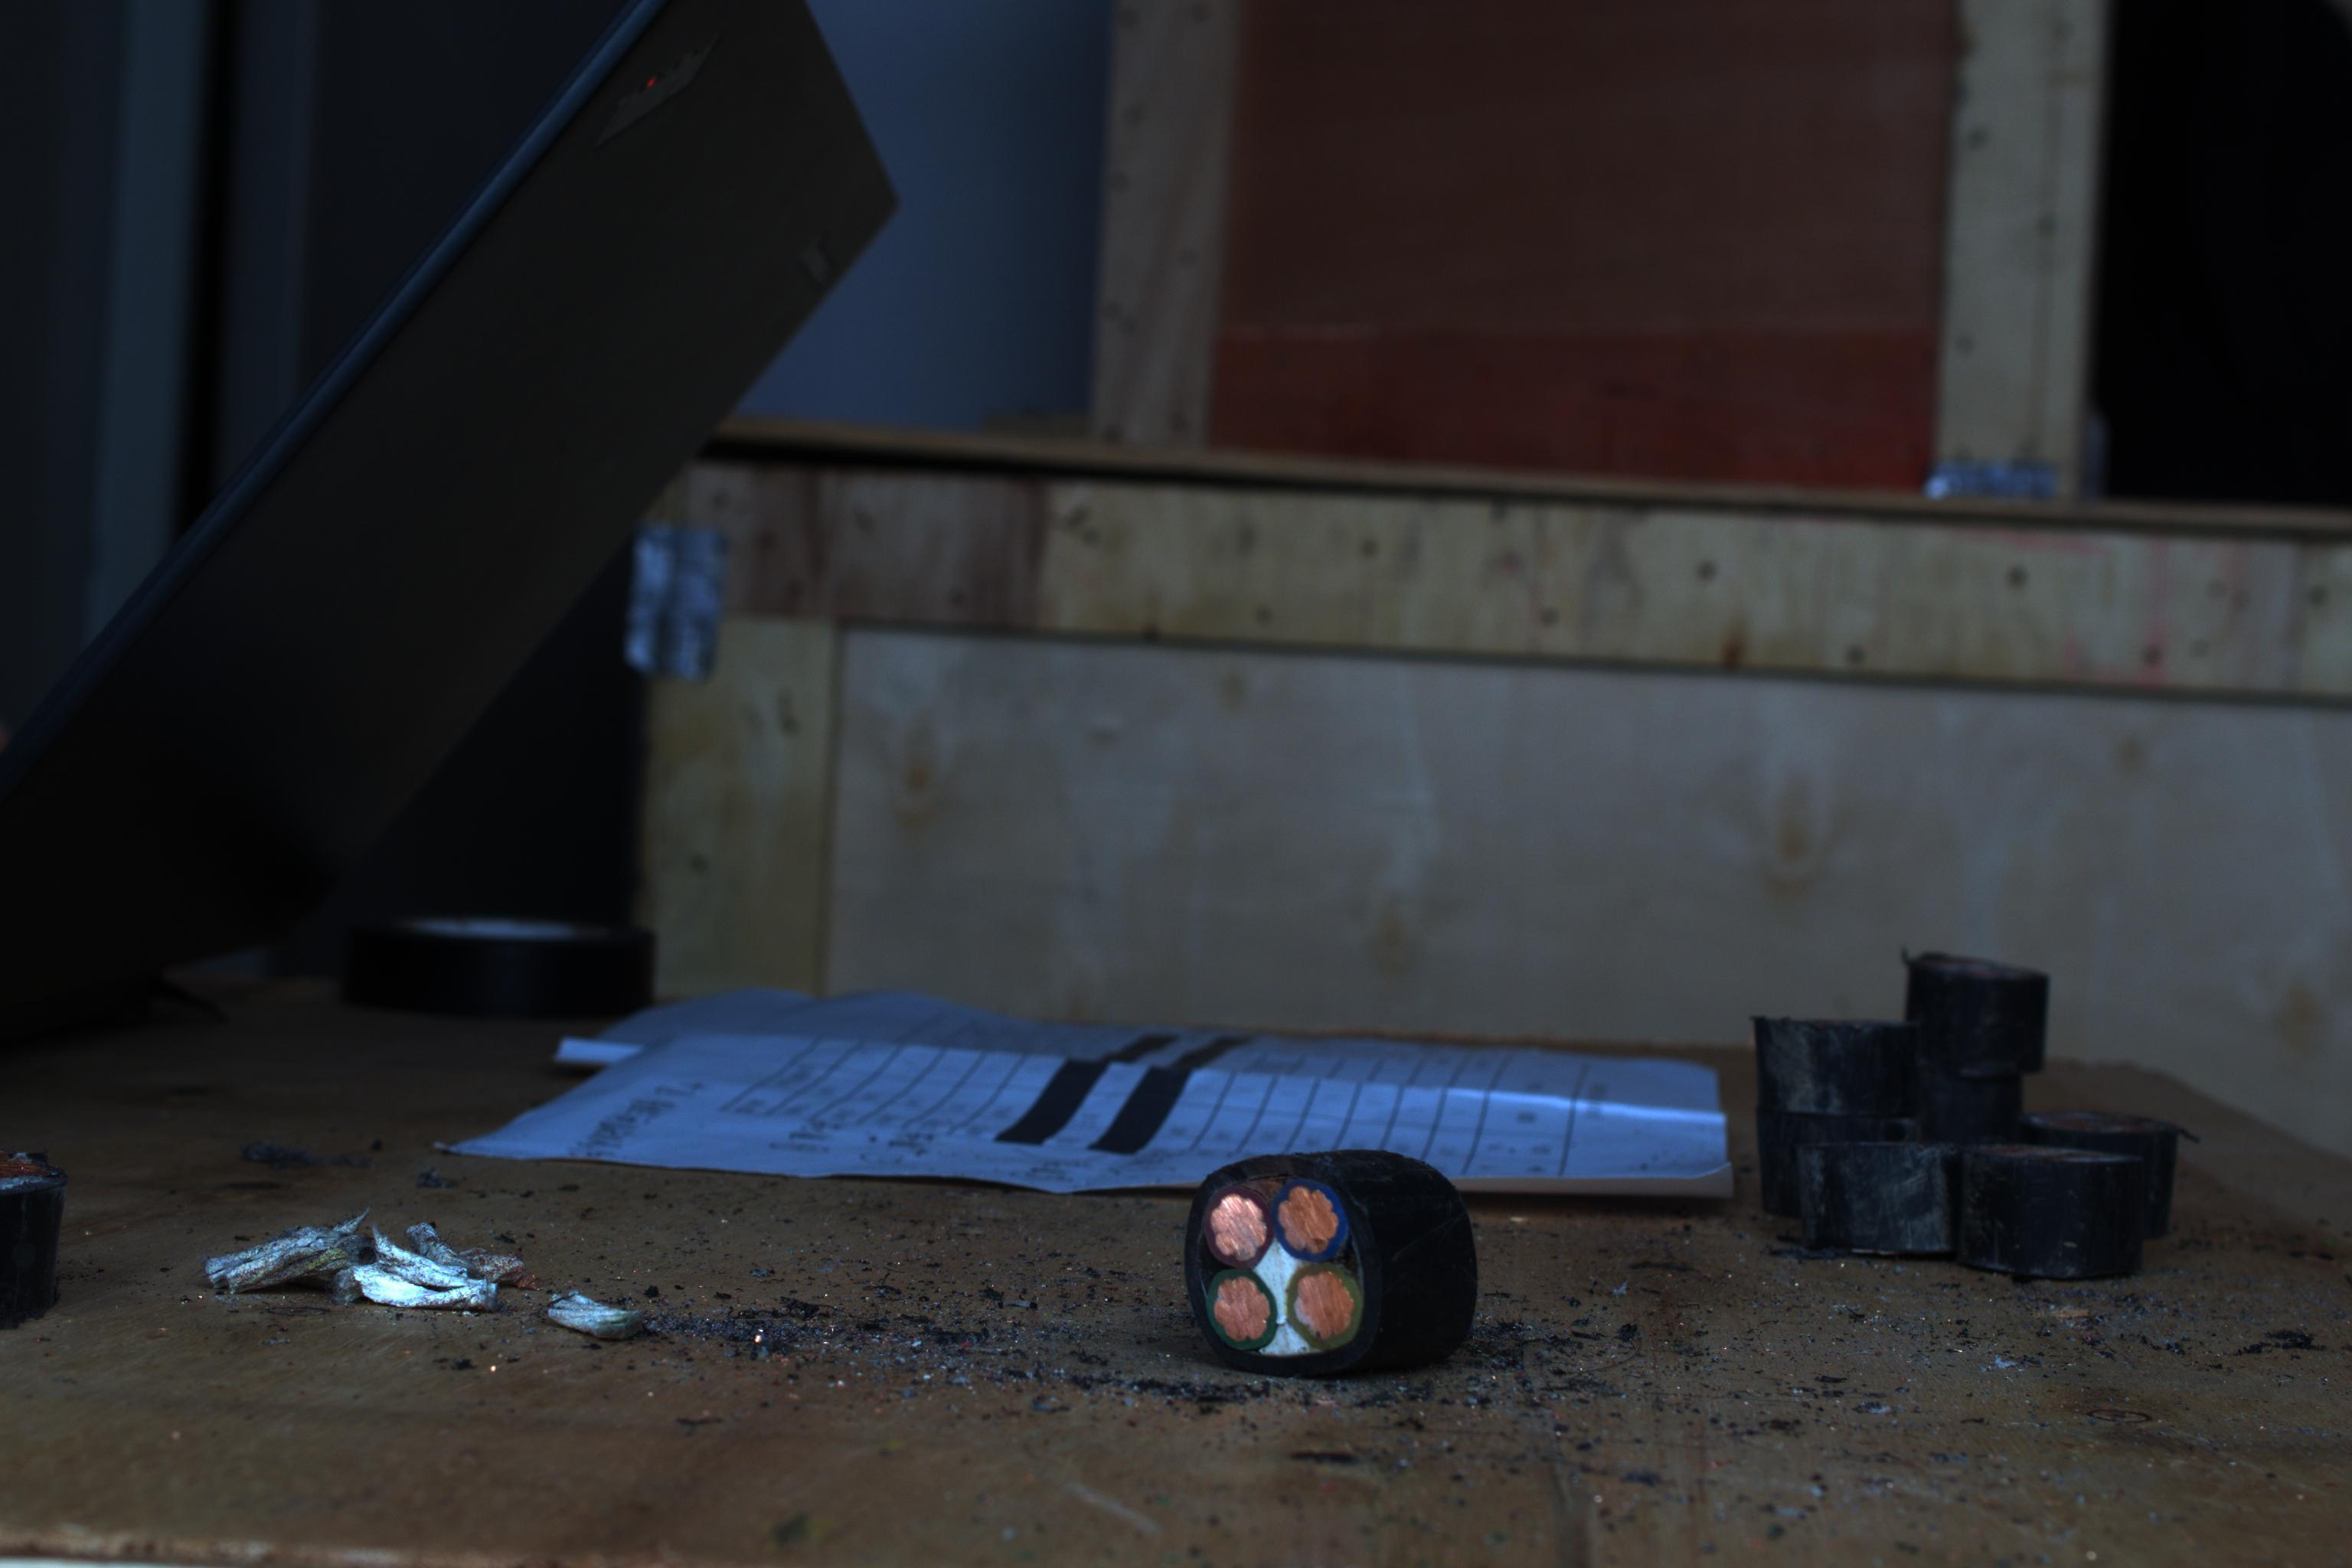YJV_0.6_1kV_4x35: (1172, 1144, 1386, 1382)
